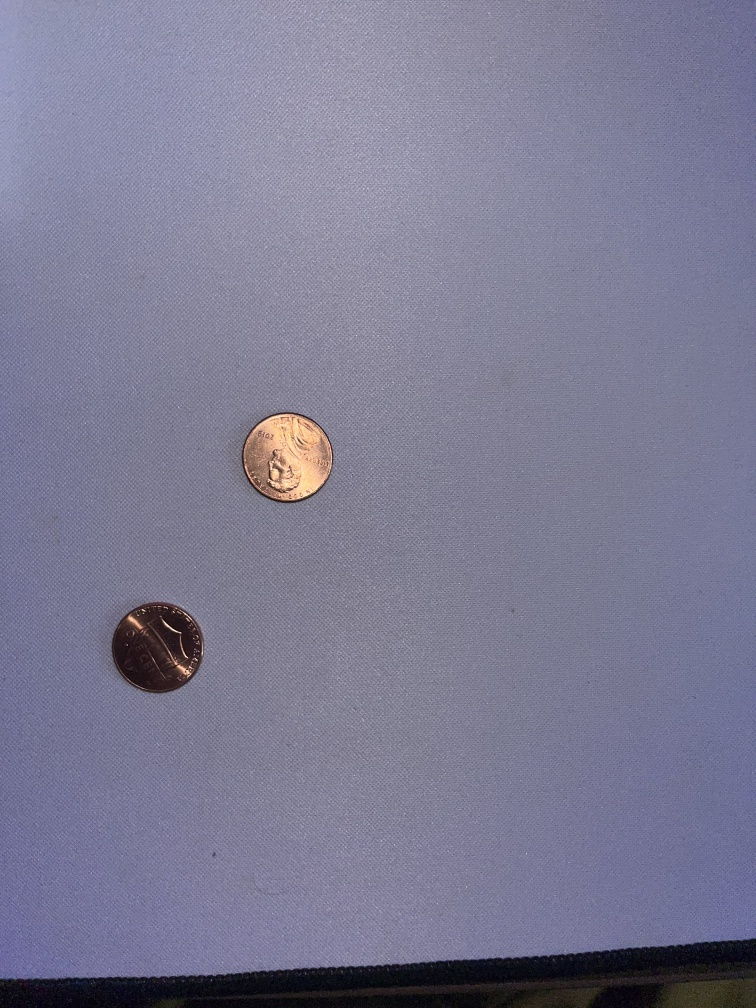penny: (109, 599, 206, 695), (239, 410, 335, 505)
